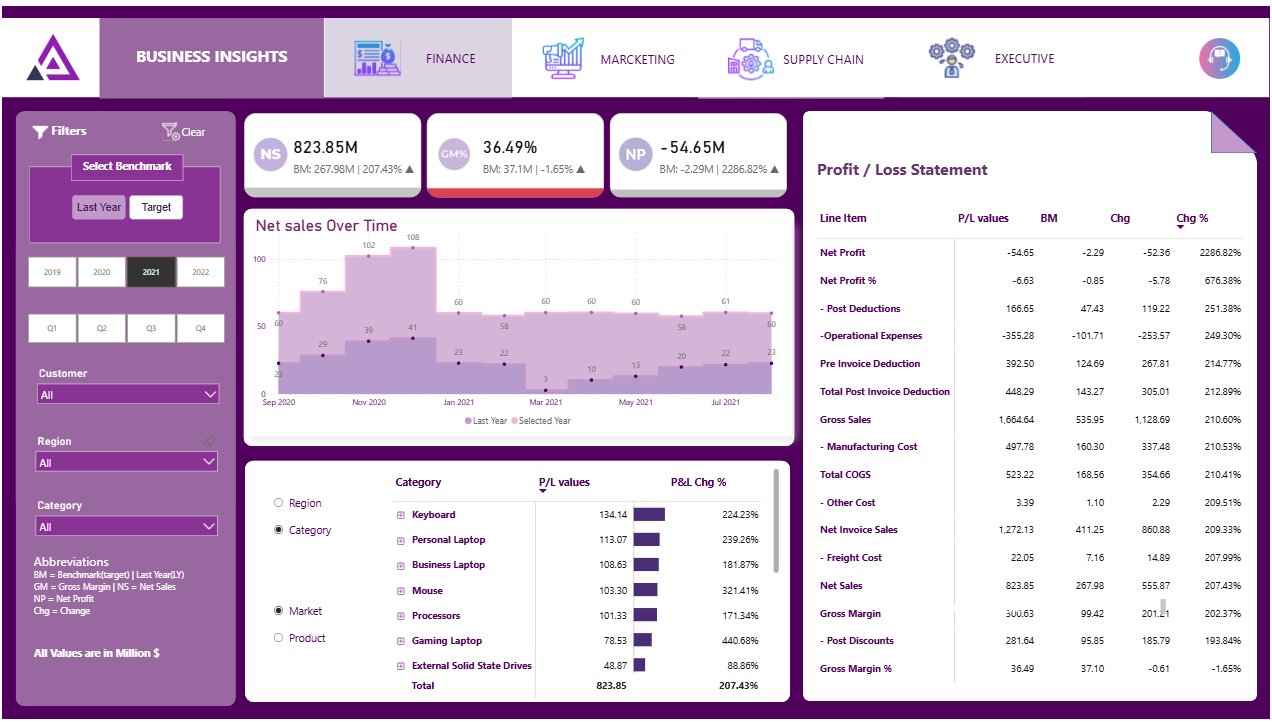

The page's visual inventory and layout, read from the dashboard file:
{"tool":"powerbi","page":{"name":"Finance","canvas":[1920,1080],"ordinal":0},"visuals":[{"type":"shape","box":[365,306.7,835,360],"z":0},{"type":"shape","box":[368,688,826,366],"z":1000},{"type":"shape","box":[1214,160,688,894],"z":2000},{"type":"shape","box":[20,160,334,902],"z":3000},{"type":"slicer","fields":{"Values":["fiscal_year.fiscal_year"]},"box":[14,372,348,60],"z":4000},{"type":"pivotTable","fields":{"Rows":["P & L rows.Line Item"],"Values":["P/L Measures.P & L values","P/L Measures.P/L LY vs Target","P/L Measures.P&L Chg","P/L Measures.P&L Chg %"]},"box":[1230,294,672,744],"z":5000},{"type":"slicer","fields":{"Values":["dim_date.Quarter"]},"box":[14,460,348,58],"z":6000},{"type":"areaChart","fields":{"Category":["dim_date.date"],"Y":["P/L Measures.P/L LY vs Target","P/L Measures.P & L values"]},"box":[370,325,826.7,326.7],"z":7000},{"type":"pivotTable","fields":{"Rows":["category.category","dim_market.market"],"Values":["P/L Measures.P & L values","P/L Measures.P & L values bars","P/L Measures.P&L Chg %"]},"box":[586,696,596,358],"z":8000},{"type":"textbox","box":[1200,894,568,34],"z":9000},{"type":"textbox","box":[62,170,80,42],"z":10000},{"type":"slicer","fields":{"Values":["dim_market.region"]},"box":[42,644,296,80],"z":11000},{"type":"slicer","fields":{"Values":["dim_customer.customer"]},"box":[44,540,296,72],"z":12000},{"type":"slicer","fields":{"Values":["dim_product.category"]},"box":[42,740,296,70],"z":13000},{"type":"shape","box":[0,18,1920,120],"z":14000},{"type":"ChicletSlicer1448559807354","fields":{"Category":["Comparision.Mode"]},"box":[102,278,210,58],"z":15000},{"type":"card","fields":{"Values":["P/L Measures.Bm message"]},"box":[1360,810,458,24],"z":16000},{"type":"image","box":[20,26,114,104],"z":17000},{"type":"textbox","box":[148,18,340,122],"z":18000},{"type":"actionButton","box":[1468,776,282,104],"z":19000},{"type":"actionButton","box":[488,18,284,122],"z":20000},{"type":"actionButton","box":[772,28,282,104],"z":21000},{"type":"actionButton","box":[1054,20,282,120],"z":22000},{"type":"actionButton","box":[1360,18,282,120],"z":23000},{"type":"textbox","box":[42,244,290,116],"z":24000},{"type":"textbox","box":[104,224,170,40],"z":25000},{"type":"textbox","box":[44,822,290,142],"z":26000},{"type":"textbox","box":[44,964,240,70],"z":27000},{"type":"ChicletSlicer1448559807354","fields":{"Category":["Comparision.Mode"]},"box":[98,278,184,58],"z":28000},{"type":"shape","box":[1832,160,70,64],"z":29000},{"type":"textbox","box":[1230,225,570,62.5],"z":30000},{"type":"image","box":[42,170,34,42],"z":31000},{"type":"cardVisual","fields":{"Data":["P/L Measures.Net Sales","P/L Measures.Gross Margin %","P/L Measures.Net Profit"]},"box":[362,156,834,138],"z":32000},{"type":"card","fields":{"Values":["P/L Measures.p/l performance graph title"]},"box":[351.7,278.3,278.3,108.3],"z":33000},{"type":"slicer","fields":{"Values":["Parameter region/category.Parameter region/category"]},"box":[398,728,150,100],"z":34000},{"type":"slicer","fields":{"Values":["Parameter market/product.Parameter market/product"]},"box":[398,890,164,110],"z":35000},{"type":"image","box":[1800,42.5,90,72.5],"z":36000},{"type":"actionButton","box":[237.5,172.5,102.5,35],"z":38000}]}

Visuals, with their boxes in screenshot pixels (x1, y1, x2, y2), scaled from the page's 1920x1080 canvas onto the 1272x728 screenshot:
shape: BBox(242, 207, 795, 449)
shape: BBox(244, 464, 791, 710)
shape: BBox(804, 108, 1260, 710)
shape: BBox(13, 108, 235, 716)
slicer - fiscal_year.fiscal_year: BBox(9, 251, 240, 291)
pivotTable - P & L rows.Line Item x P/L Measures.P & L values: BBox(815, 198, 1260, 700)
slicer - dim_date.Quarter: BBox(9, 310, 240, 349)
areaChart - dim_date.date x P/L Measures.P/L LY vs Target: BBox(245, 219, 793, 439)
pivotTable - category.category x dim_market.market: BBox(388, 469, 783, 710)
textbox: BBox(795, 603, 1171, 626)
textbox: BBox(41, 115, 94, 143)
slicer - dim_market.region: BBox(28, 434, 224, 488)
slicer - dim_customer.customer: BBox(29, 364, 225, 413)
slicer - dim_product.category: BBox(28, 499, 224, 546)
shape: BBox(0, 12, 1271, 93)
ChicletSlicer1448559807354 - Comparision.Mode: BBox(68, 187, 207, 226)
card - P/L Measures.Bm message: BBox(901, 546, 1204, 562)
image: BBox(13, 18, 89, 88)
textbox: BBox(98, 12, 323, 94)
actionButton: BBox(973, 523, 1159, 593)
actionButton: BBox(323, 12, 511, 94)
actionButton: BBox(511, 19, 698, 89)
actionButton: BBox(698, 13, 885, 94)
actionButton: BBox(901, 12, 1088, 93)
textbox: BBox(28, 164, 220, 243)
textbox: BBox(69, 151, 182, 178)
textbox: BBox(29, 554, 221, 650)
textbox: BBox(29, 650, 188, 697)
ChicletSlicer1448559807354 - Comparision.Mode: BBox(65, 187, 187, 226)
shape: BBox(1214, 108, 1260, 151)
textbox: BBox(815, 152, 1192, 194)
image: BBox(28, 115, 50, 143)
cardVisual - P/L Measures.Net Sales x P/L Measures.Gross Margin %: BBox(240, 105, 792, 198)
card - P/L Measures.p/l performance graph title: BBox(233, 188, 417, 261)
slicer - Parameter region/category.Parameter region/category: BBox(264, 491, 363, 558)
slicer - Parameter market/product.Parameter market/product: BBox(264, 600, 372, 674)
image: BBox(1192, 29, 1252, 78)
actionButton: BBox(157, 116, 225, 140)
